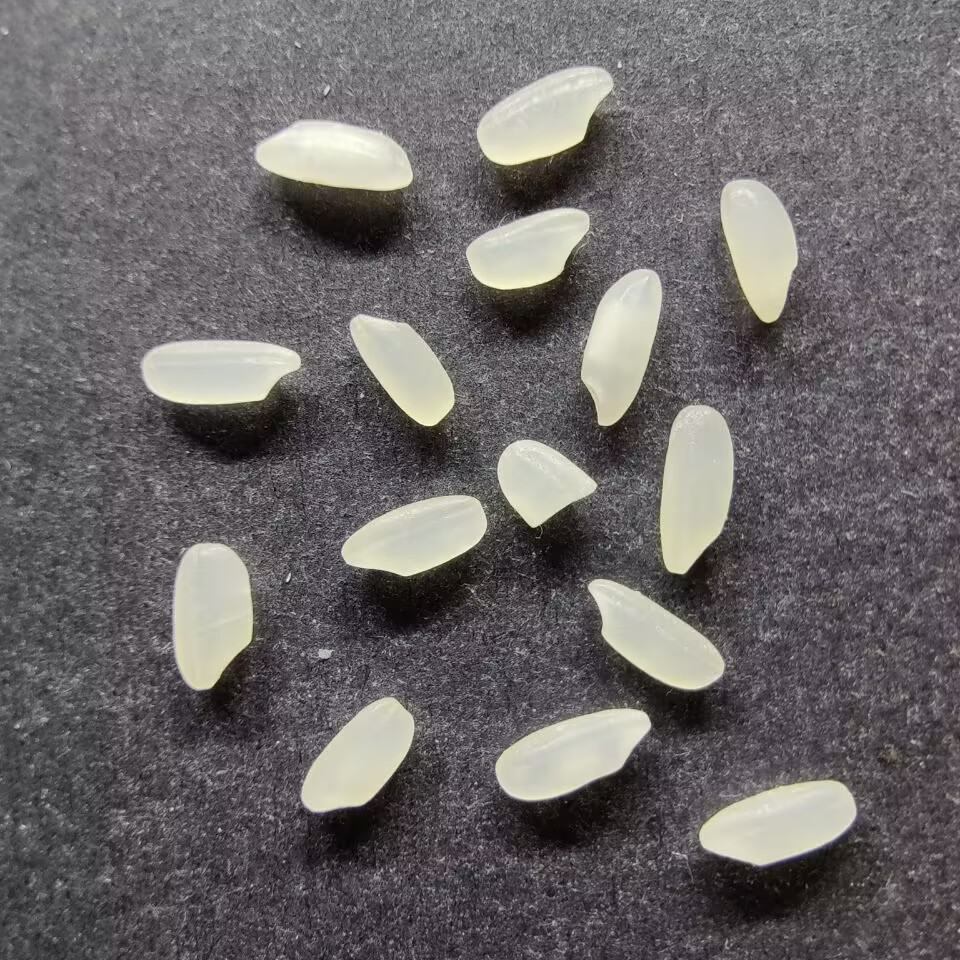broken: (496, 439, 597, 528)
rice: (586, 578, 723, 690), (494, 707, 650, 802), (475, 65, 614, 166), (697, 779, 856, 867), (299, 696, 414, 813), (579, 267, 662, 427), (658, 404, 734, 575), (171, 542, 254, 691), (348, 313, 454, 426), (340, 495, 486, 577), (719, 178, 798, 323), (254, 120, 412, 191), (141, 339, 301, 405), (464, 206, 589, 290)
